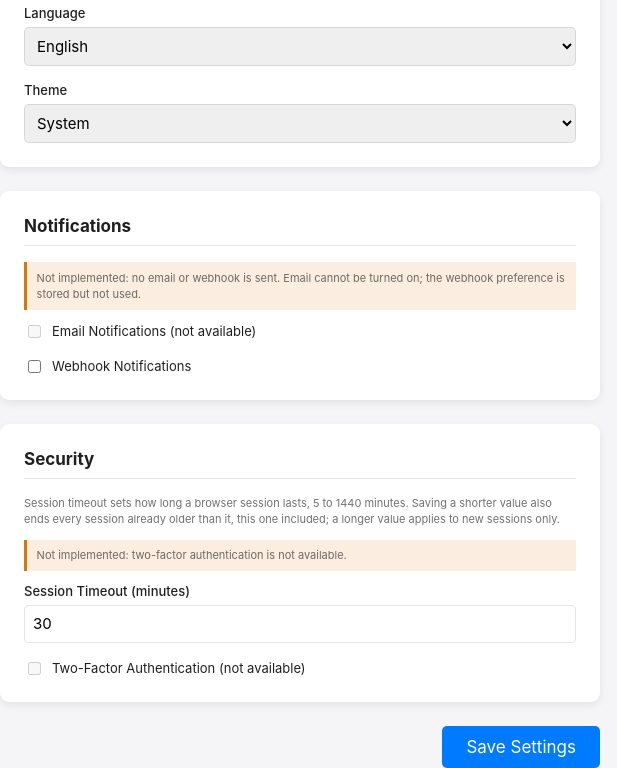
it: SettingsView security settings › shows the reason the server gave for refusing a save
The image size is (617, 768).
(page scrolled)
What coordinates should you click on to do the following:
click the button named "save settings"
I would click on:
 (521, 747)
Its box is [442,726,600,767].
(page scrolled)
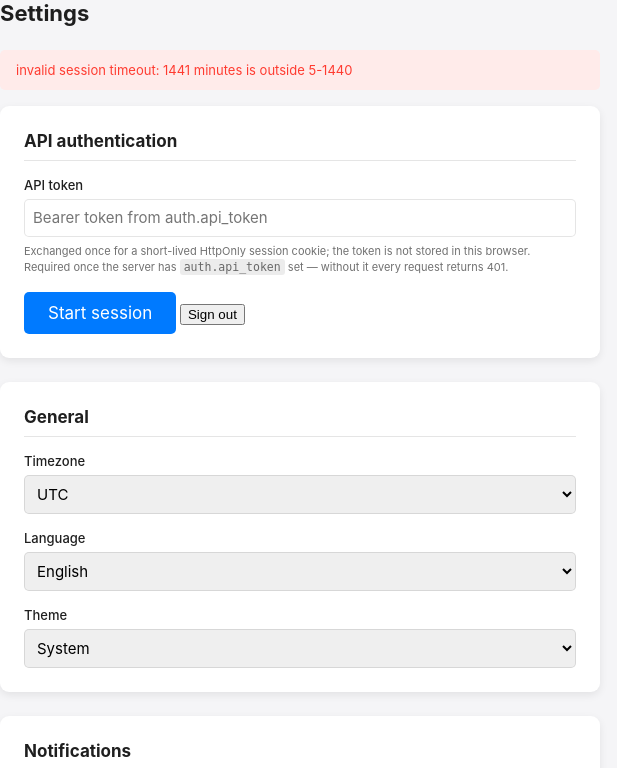
Check: the text "1441 minutes is outside 5-1440" is shown, box [16,62,352,78]
